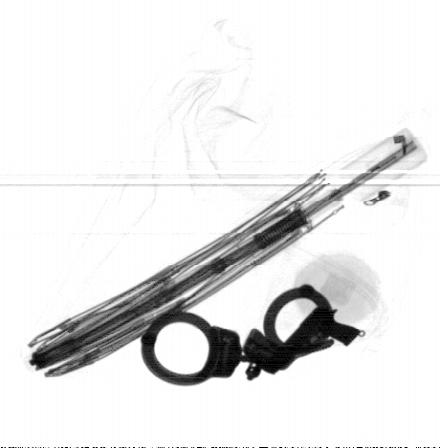Gun: (264, 307, 360, 377)
HandCuffs: (142, 284, 336, 385)
